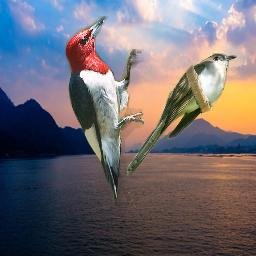Cuckoo: (124, 52, 237, 178)
Woodpecker: (64, 16, 144, 206)
